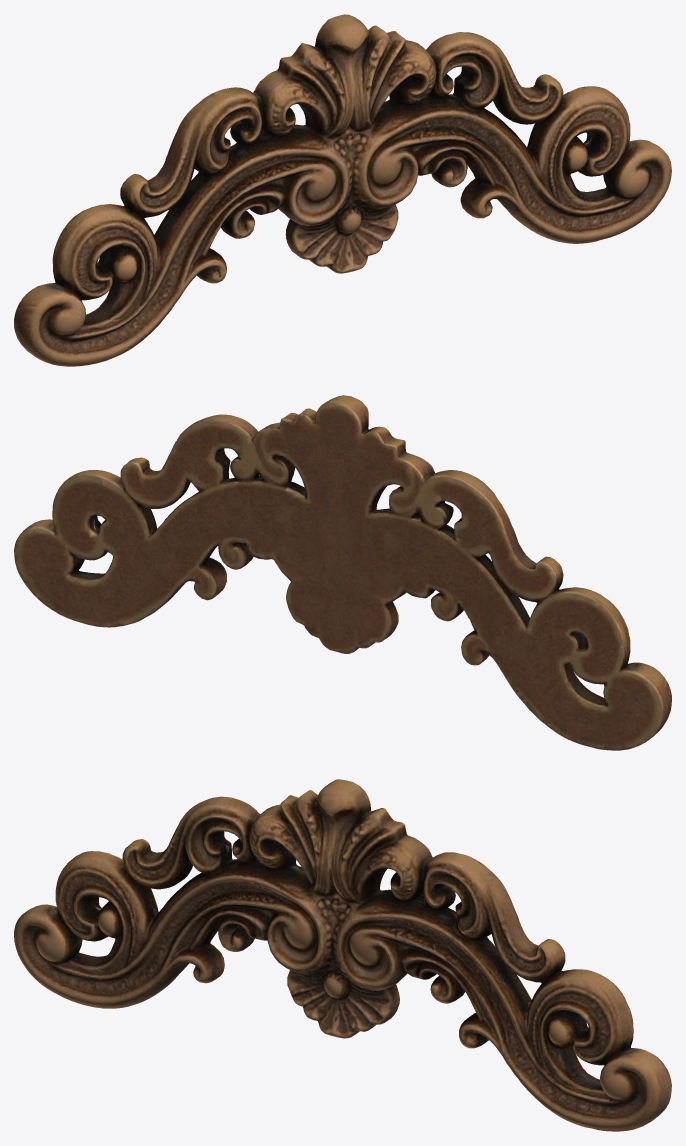
3 views of the same model, one above another, from view 1: azimuth 30°, elevation 25°; view 2: azimuth 150°, elevation 25°; view 3: azimuth 330°, elevation 25° (orthographic).
Size of the model in its own units: 1.9 by 0.7916 by 0.0958.
Materials: 1 (1 with a texture image).
